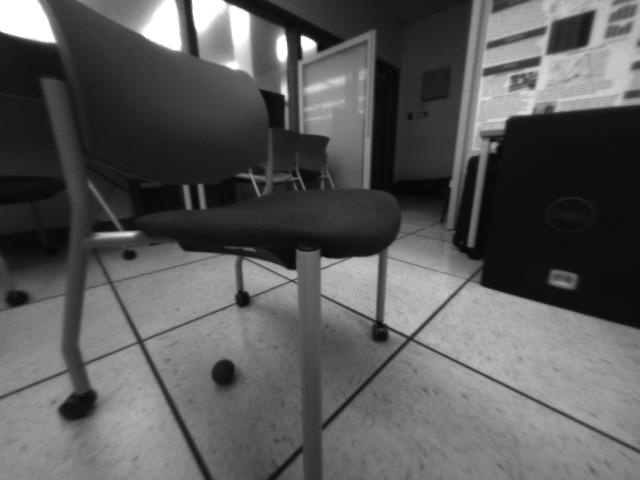dogtoy: (204, 353, 248, 391)
